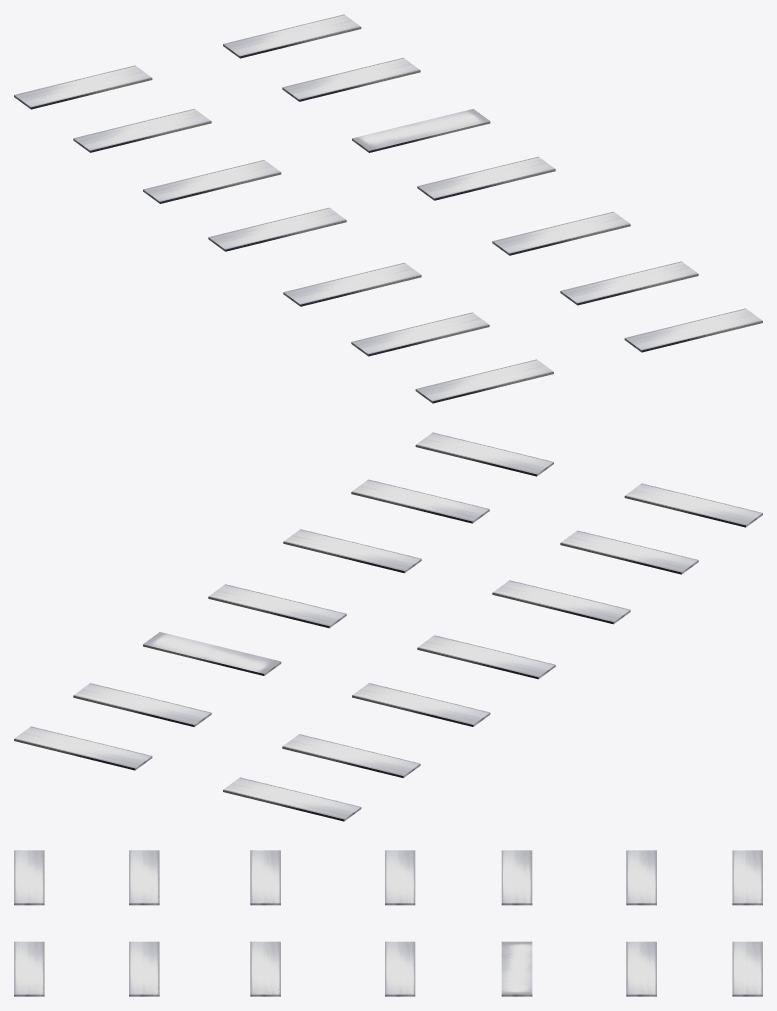
File: leds.obj
3 views of the same model, one above another, from view 1: azimuth 30°, elevation 25°; view 2: azimuth 150°, elevation 25°; view 3: azimuth 270°, elevation 25° (orthographic). The views are drawn at different scales.
Parts seen in each view (by area): view 1: luces; view 2: luces; view 3: luces.
Part boxes in pixels (box(x1,y1,x2,y2)): luces: box(14, 14, 762, 403); luces: box(14, 432, 762, 821); luces: box(14, 850, 762, 996).
Bounding box in the file's own units: 22.29 × 0.1363 × 48.95.
Materials: 1 (1 with a texture image).
